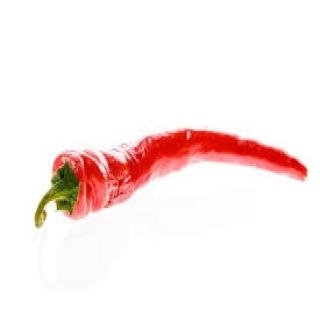Cabai Merah: (50, 125, 304, 219)
